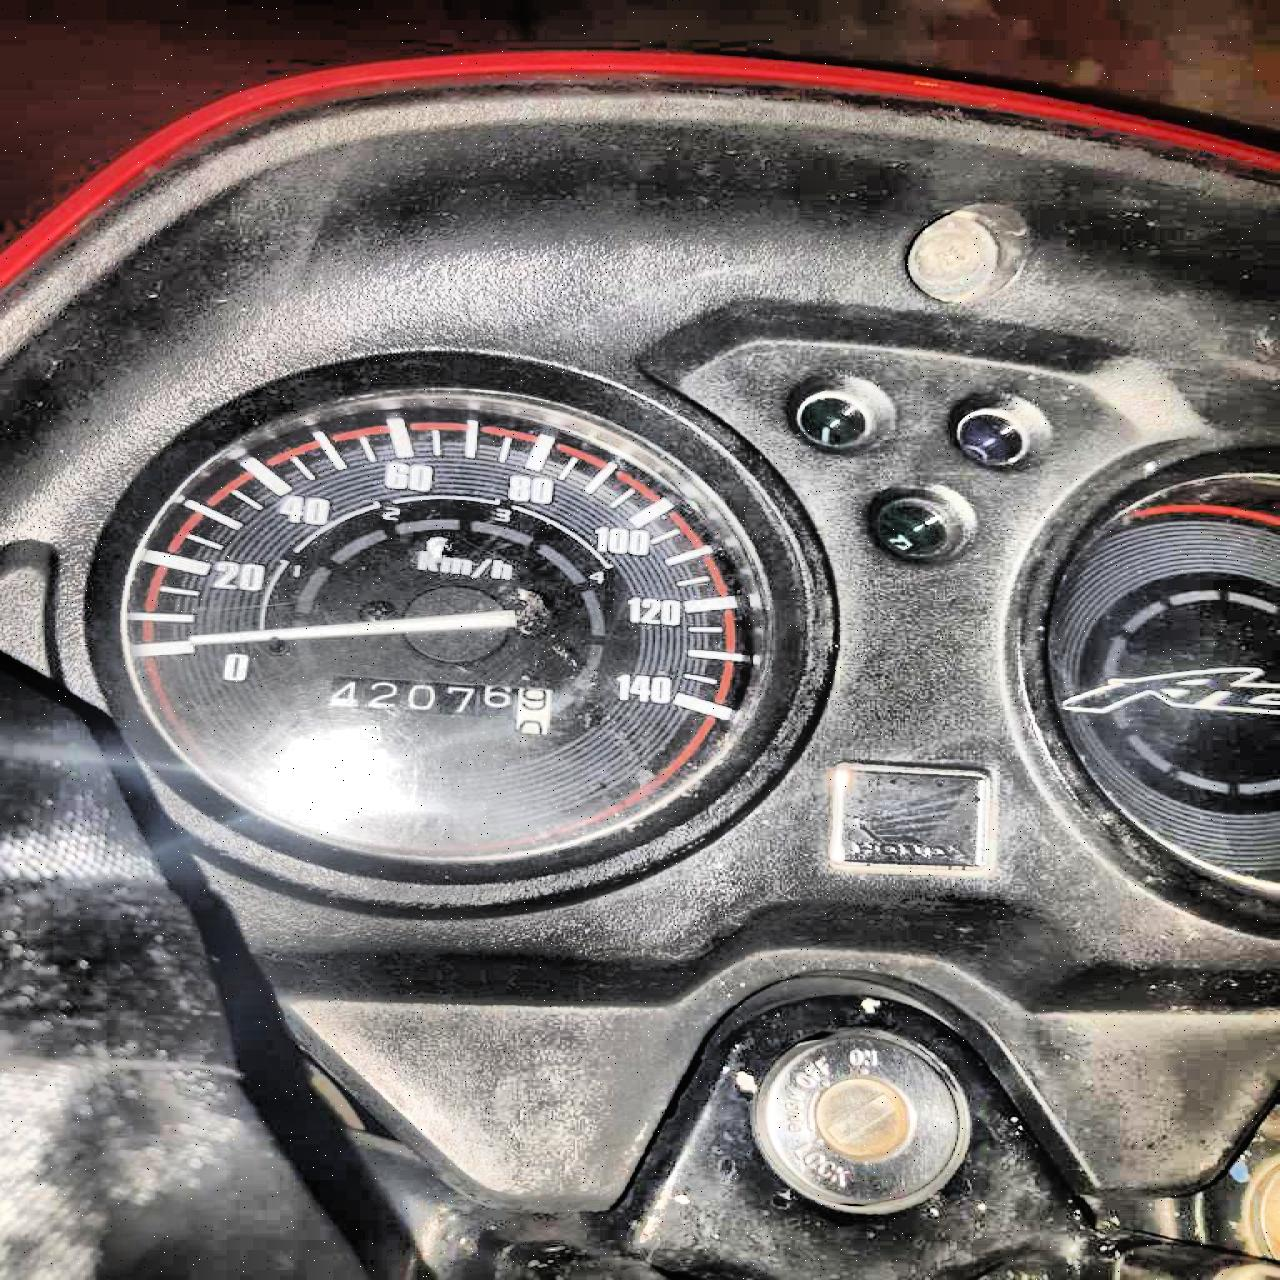0: (406, 682, 435, 710)
2: (366, 680, 396, 709)
4: (332, 679, 359, 708)
6: (482, 681, 510, 707)
7: (444, 686, 474, 713)
9: (518, 686, 546, 710)
odometer: (321, 670, 553, 736)
